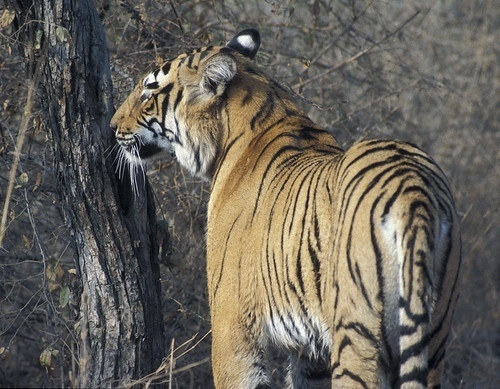tigre: (105, 25, 472, 387)
